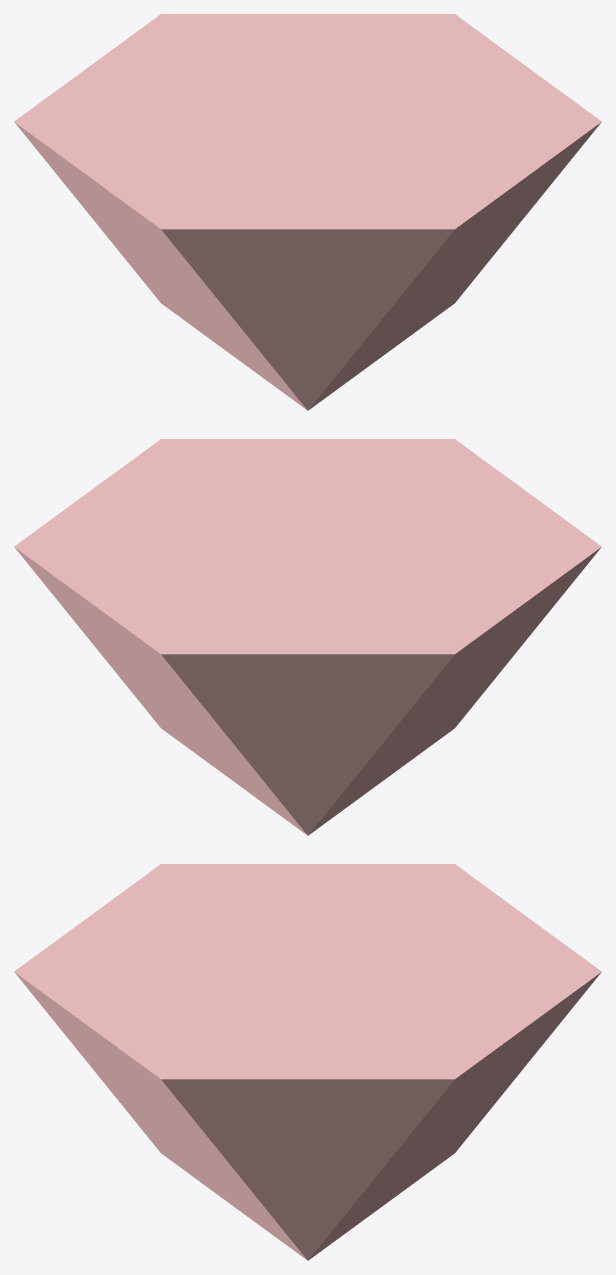
3 renders of one model, top to bottom at view 1: azimuth 30°, elevation 25°; view 2: azimuth 150°, elevation 25°; view 3: azimuth 270°, elevation 25°, orthographic.
Parts seen in each view (by area): view 1: Model; view 2: Model; view 3: Model.
Boxes of the visible parts, box(x1,y1,x2,y2) form: Model: box(14, 14, 601, 410); Model: box(14, 439, 601, 835); Model: box(14, 864, 601, 1260).
Size of the model in its own units: 6.93 by 3.26 by 8.
